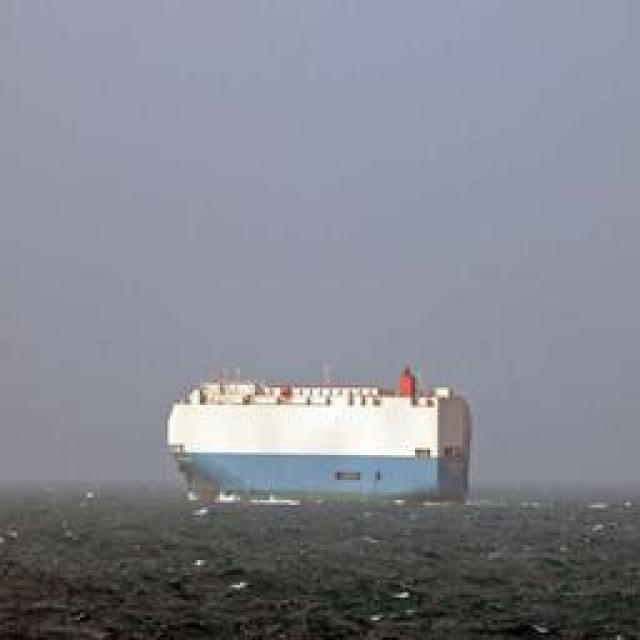CIV_Ship: (162, 372, 470, 502)
